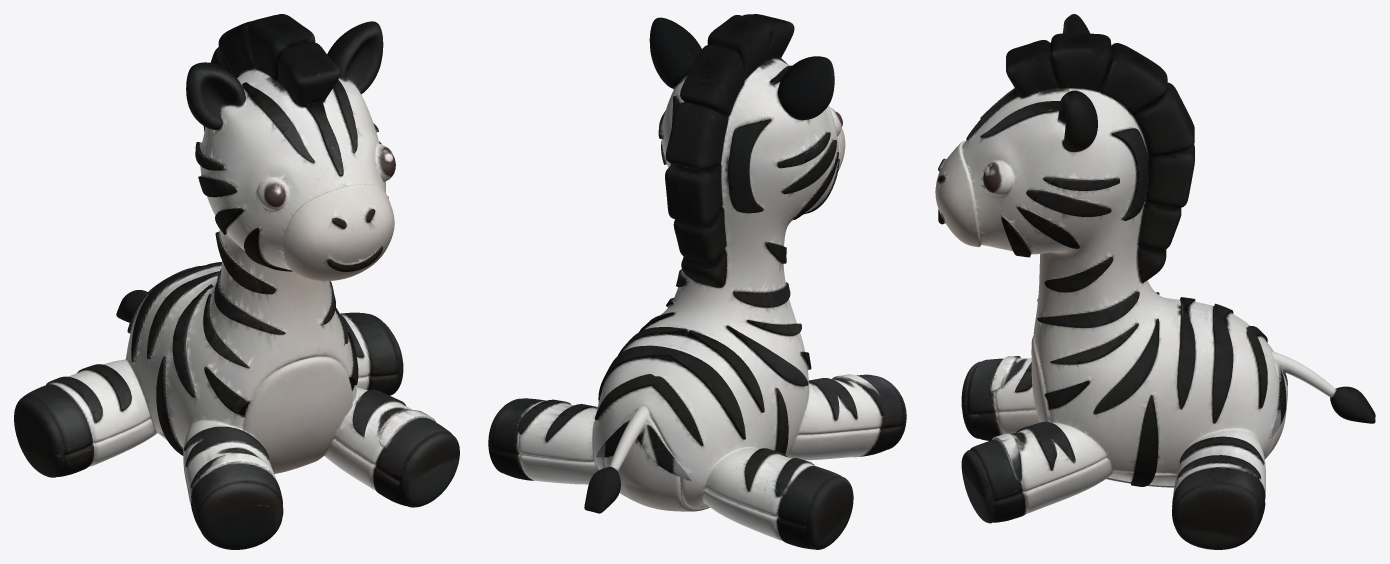
The model's file is Zebra.glb.
3 renders of one model, left to right at view 1: azimuth 30°, elevation 25°; view 2: azimuth 150°, elevation 25°; view 3: azimuth 270°, elevation 25°, orthographic. The views are drawn at different scales.
Size of the model in its own units: 1.52 by 1.9 by 1.73.
1 material, 1 textured.
